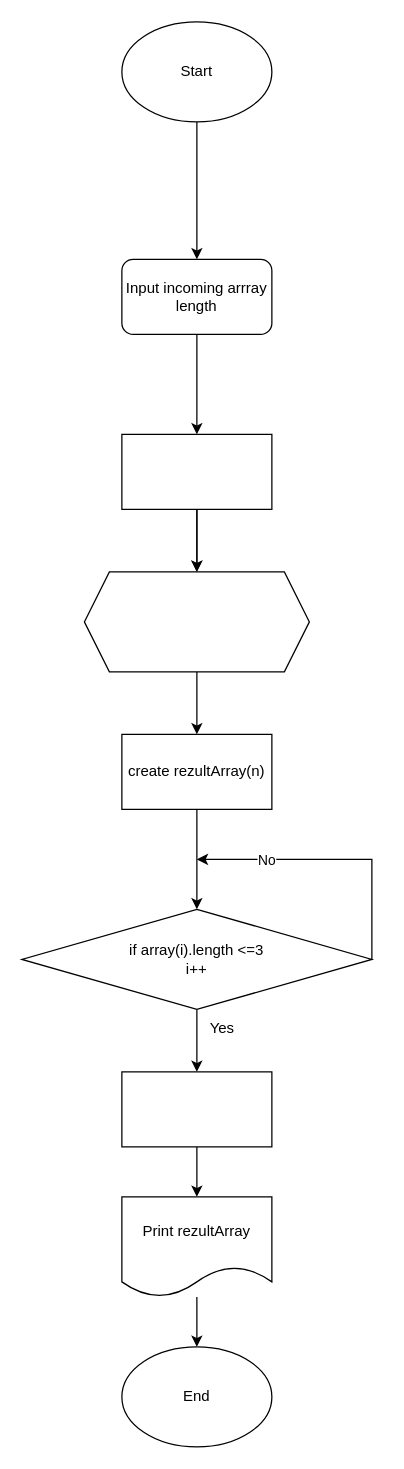
The diagram is 404 pixels wide and 1469 high, and some of its shapes have lost their labels. The shapes that lost their labels are listed below. From the top down, each one's centre as x and y in pixels, then its label:
[196,471]: input incomig array
[196,621]: Check array to number of elements less than 3 symbols- n
[196,1109]: Fill rezultArray(j)
